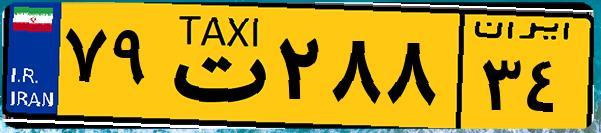2: (270, 28, 330, 110)
3: (475, 38, 525, 113)
4: (525, 38, 570, 115)
7: (57, 26, 110, 100)
8: (385, 28, 445, 110), (330, 28, 385, 110)
9: (110, 28, 158, 98)
ت: (158, 12, 270, 120)
